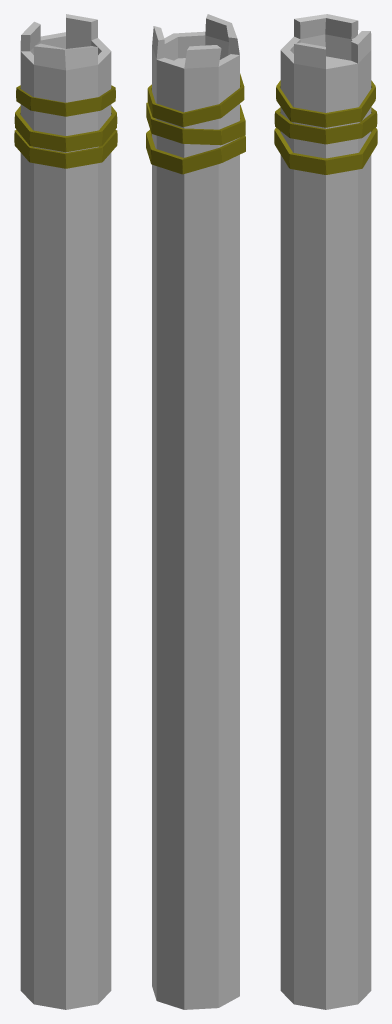
Rendered from Poteau feu.fbx.
3 views of the same model, side by side, from view 1: azimuth 90°, elevation 25°; view 2: azimuth 210°, elevation 25°; view 3: azimuth 270°, elevation 25° (orthographic).
Visible parts, largest first — view 1: Cylinder, Cable; view 2: Cylinder, Cable; view 3: Cylinder, Cable.
Boxes of the visible parts, x1,y1,x2,y2 form: Cylinder: (20,14,111,1009); Cable: (14,85,117,168); Cylinder: (152,14,239,1009); Cable: (146,73,245,174); Cylinder: (280,14,371,1009); Cable: (274,80,377,174).
Bounding box in the file's own units: 79.71 × 816 × 79.71.
